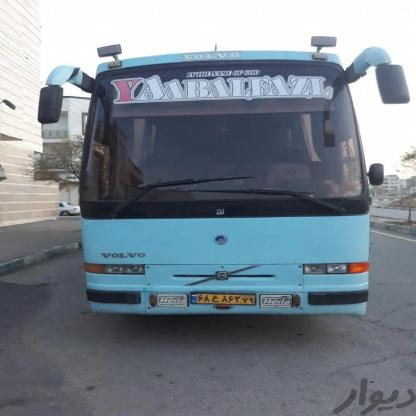Bus: (63, 57, 386, 333)
